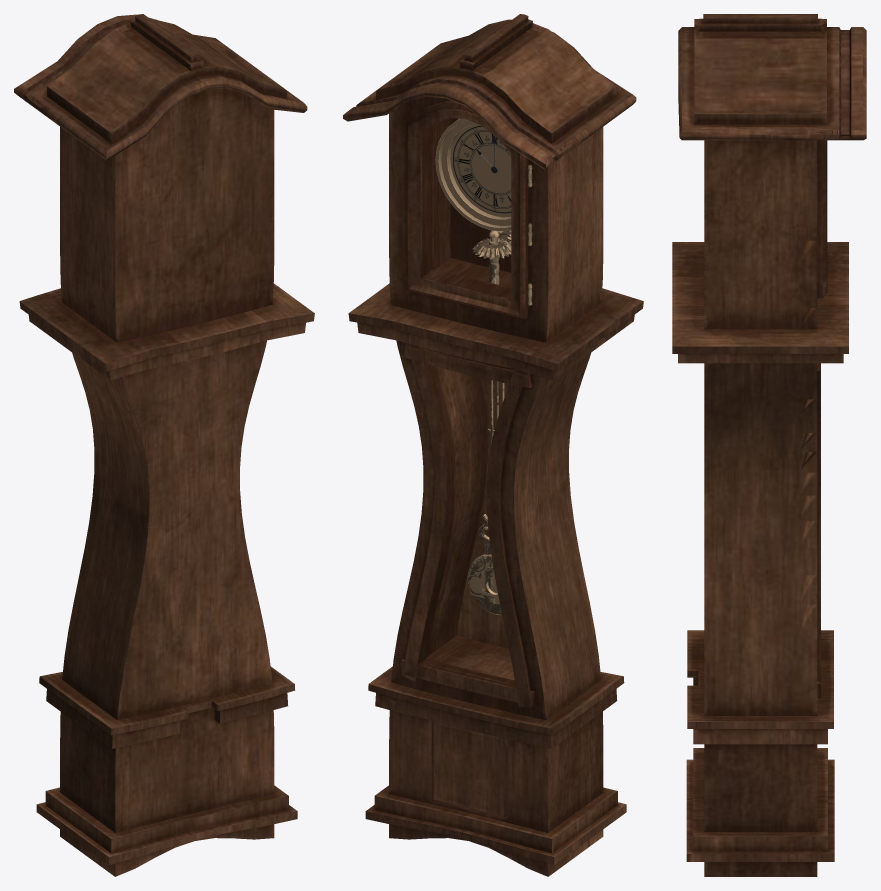
The model's file is obj_grandfather_clock_01fb2f.glb.
3 renders of one model, left to right at view 1: azimuth 30°, elevation 25°; view 2: azimuth 150°, elevation 25°; view 3: azimuth 270°, elevation 25°, orthographic. The views are drawn at different scales.
Visible parts, largest first — view 1: obj_grandfather_clock_01fb2f; view 2: obj_grandfather_clock_01fb2f; view 3: obj_grandfather_clock_01fb2f.
Part boxes in pixels (bbox=[...]): obj_grandfather_clock_01fb2f: bbox=[14, 14, 314, 876]; obj_grandfather_clock_01fb2f: bbox=[343, 14, 643, 876]; obj_grandfather_clock_01fb2f: bbox=[672, 14, 866, 876].
Bounding box in the file's own units: 0.0818 × 0.3 × 0.0643.
7 materials, 7 textured.
